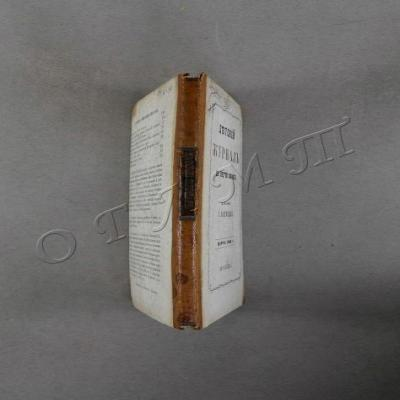rare_books: (128, 73, 244, 332)
